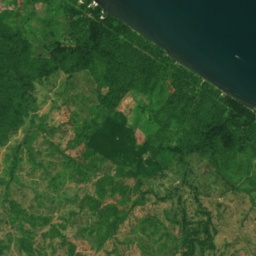Ship: (235, 54, 239, 59)
